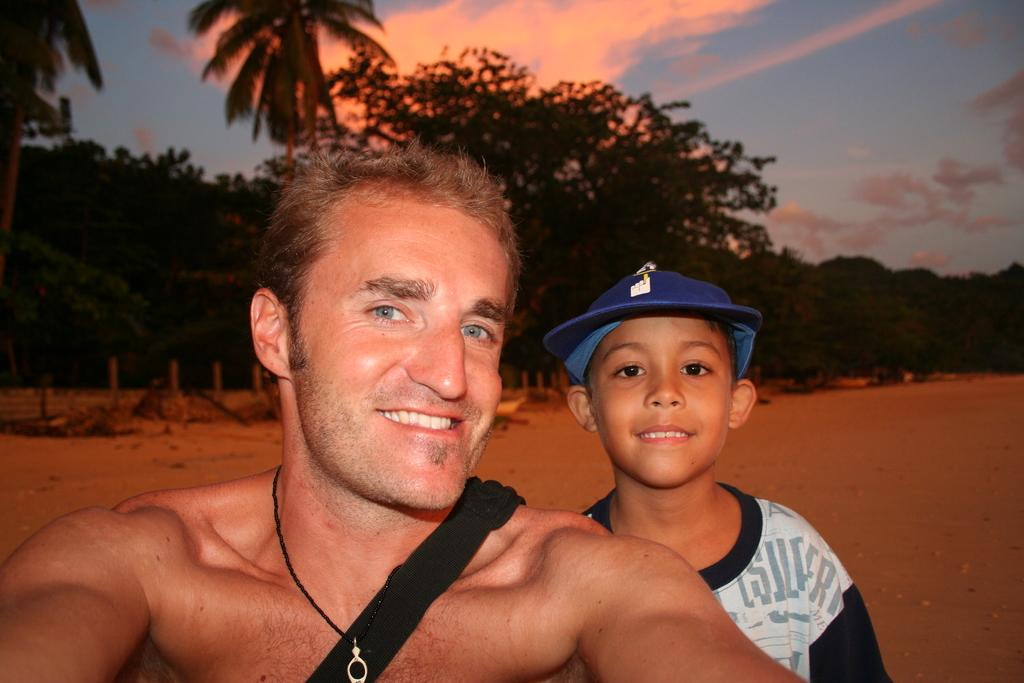Hat: (546, 268, 774, 402)
